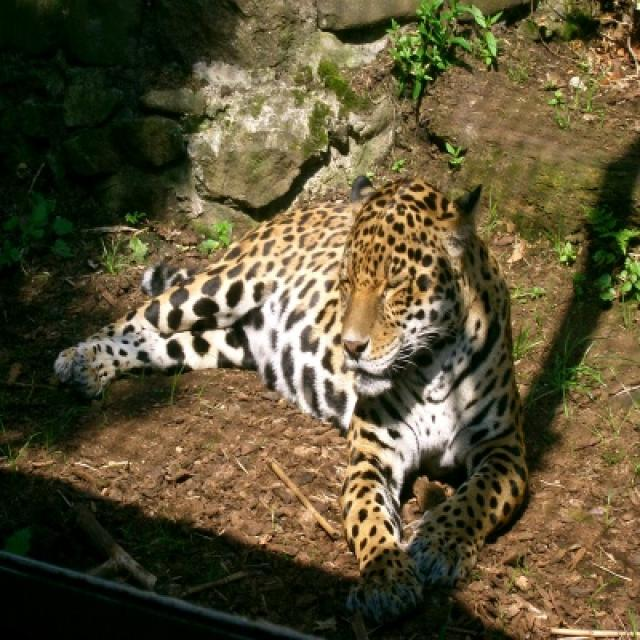Jaguar: (54, 176, 528, 638)
